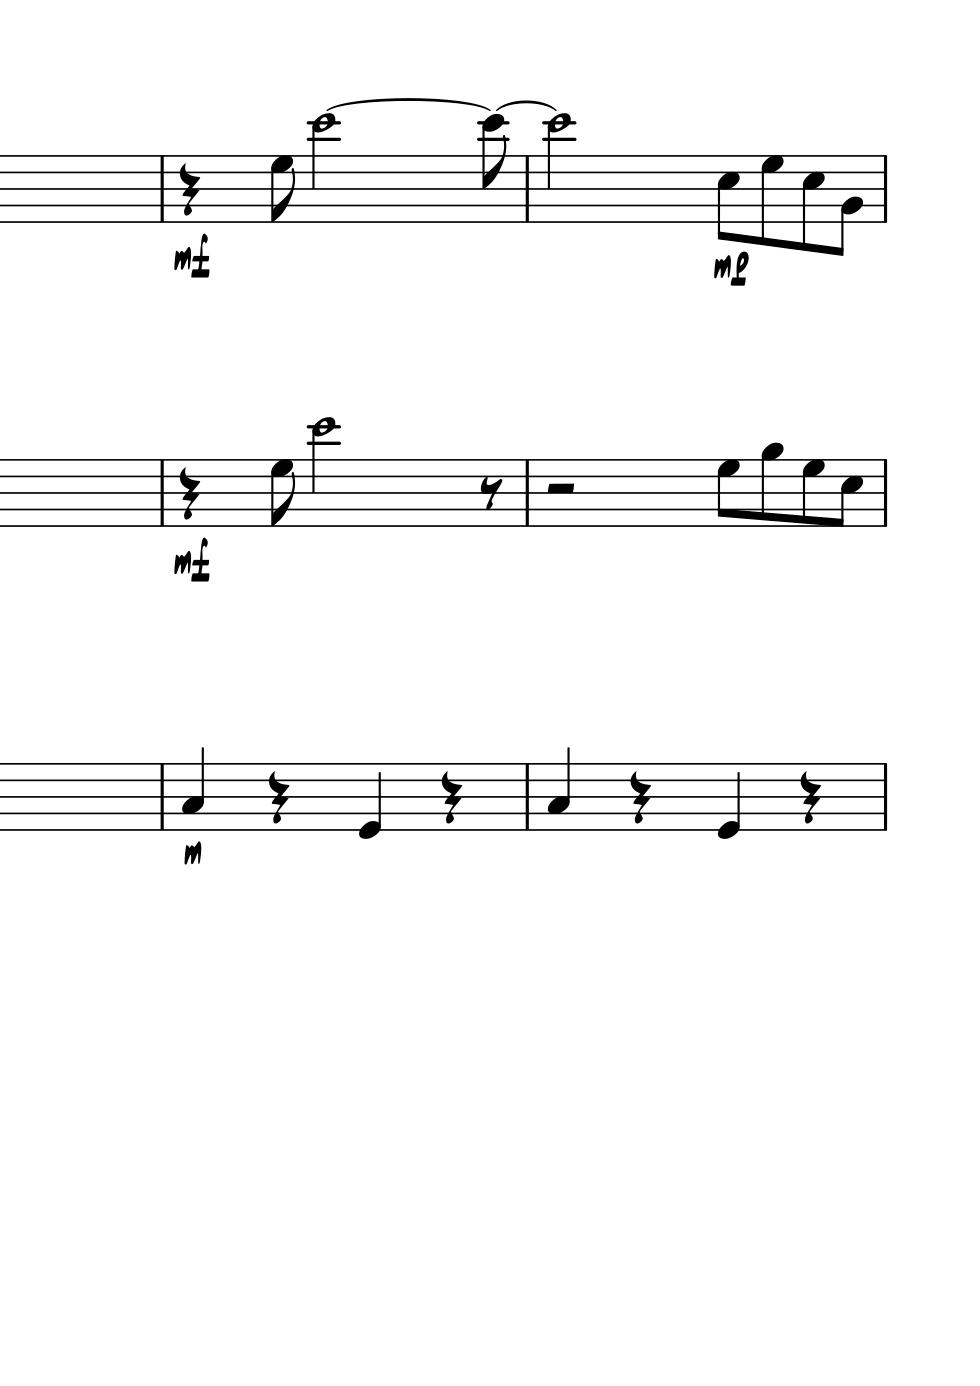2_12: (307, 417, 339, 530), (307, 115, 339, 225), (543, 113, 574, 225)
4_0: (356, 762, 383, 843), (715, 761, 741, 842)
4_3: (180, 747, 206, 831), (546, 747, 571, 832)
8_12: (479, 113, 509, 225)
8_2: (835, 153, 864, 258)
8_5: (798, 153, 825, 255), (833, 456, 865, 529), (715, 153, 740, 243)
8_7: (758, 153, 784, 247), (799, 457, 826, 528), (269, 457, 295, 529), (715, 457, 740, 528), (269, 154, 295, 224)
8_9: (758, 441, 785, 529)
Rests2: (542, 480, 578, 498)
Rests4: (438, 769, 463, 827), (627, 769, 652, 827), (797, 770, 822, 827), (265, 769, 290, 827), (176, 466, 200, 522), (176, 162, 199, 218)
Rests8: (477, 475, 504, 510)
Single_barline: (876, 764, 893, 831), (518, 460, 535, 525), (877, 155, 893, 223), (154, 460, 170, 527), (519, 764, 535, 830), (519, 156, 535, 221), (877, 459, 892, 527), (155, 155, 170, 222), (154, 764, 169, 829)
Slur: (322, 97, 493, 112), (492, 98, 560, 113)
m: (181, 838, 203, 869)
mf: (171, 233, 213, 280), (172, 537, 212, 585)
mp: (710, 250, 751, 288)
